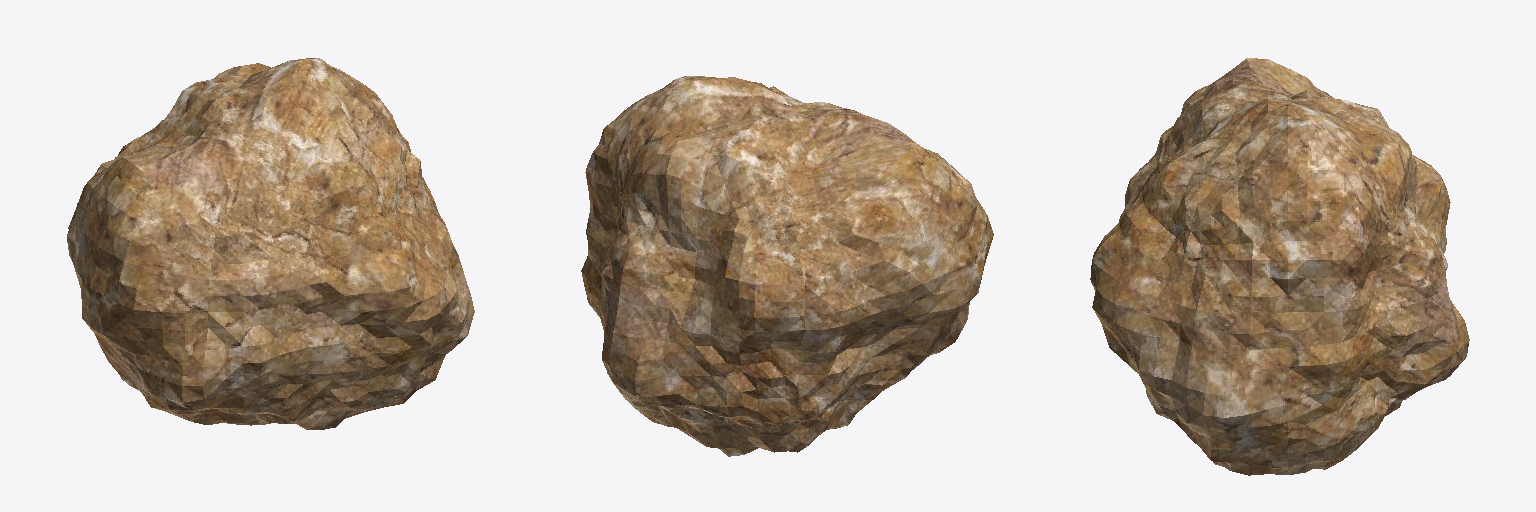
3 renders of one model, left to right at view 1: azimuth 30°, elevation 25°; view 2: azimuth 150°, elevation 25°; view 3: azimuth 270°, elevation 25°, orthographic.
Visible parts, largest first — view 1: Cube; view 2: Cube; view 3: Cube.
Boxes of the visible parts, <box> form: Cube: <box>67,58,474,429</box>; Cube: <box>581,76,993,456</box>; Cube: <box>1090,58,1469,475</box>.
Size of the model in its own units: 1.88 by 1.66 by 1.67.
1 materials, 1 textured.